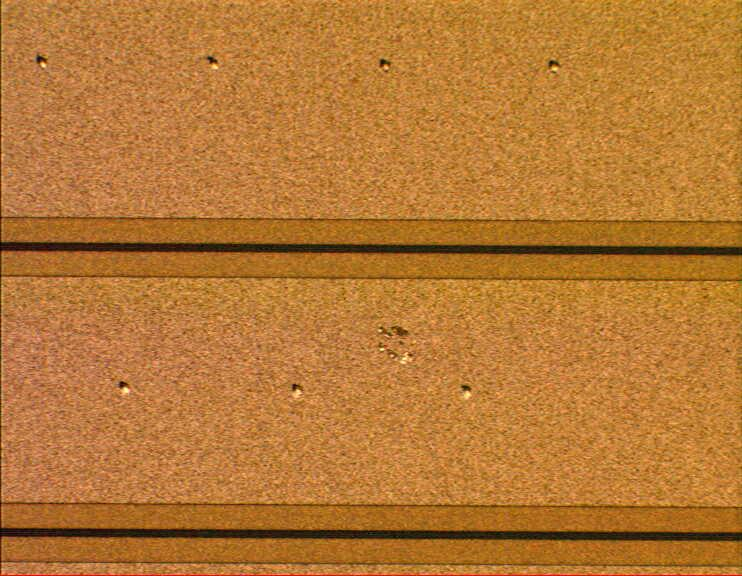SCRATCH: (347, 311, 448, 382)
